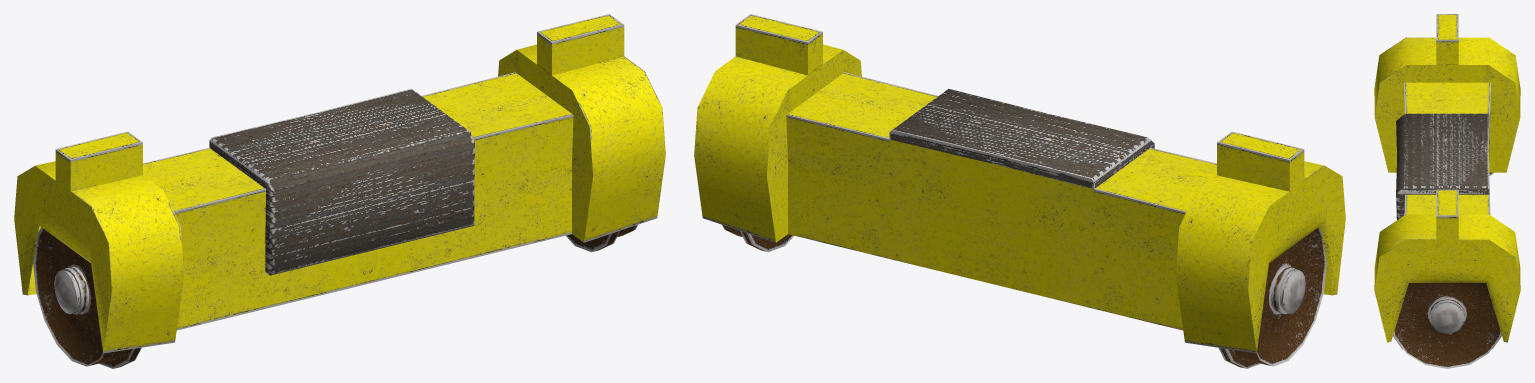
The model's file is RailWheels.FBX.
3 views of the same model, side by side, from view 1: azimuth 30°, elevation 25°; view 2: azimuth 150°, elevation 25°; view 3: azimuth 270°, elevation 25° (orthographic). The views are drawn at different scales.
Parts seen in each view (by area): view 1: RailWheels; view 2: RailWheels; view 3: RailWheels.
Part boxes in pixels (box(x1,y1,x2,y2)): RailWheels: box(14, 14, 665, 368); RailWheels: box(694, 14, 1345, 368); RailWheels: box(1374, 14, 1520, 368).
Bounding box in the file's own units: 169 × 51.04 × 62.37.
